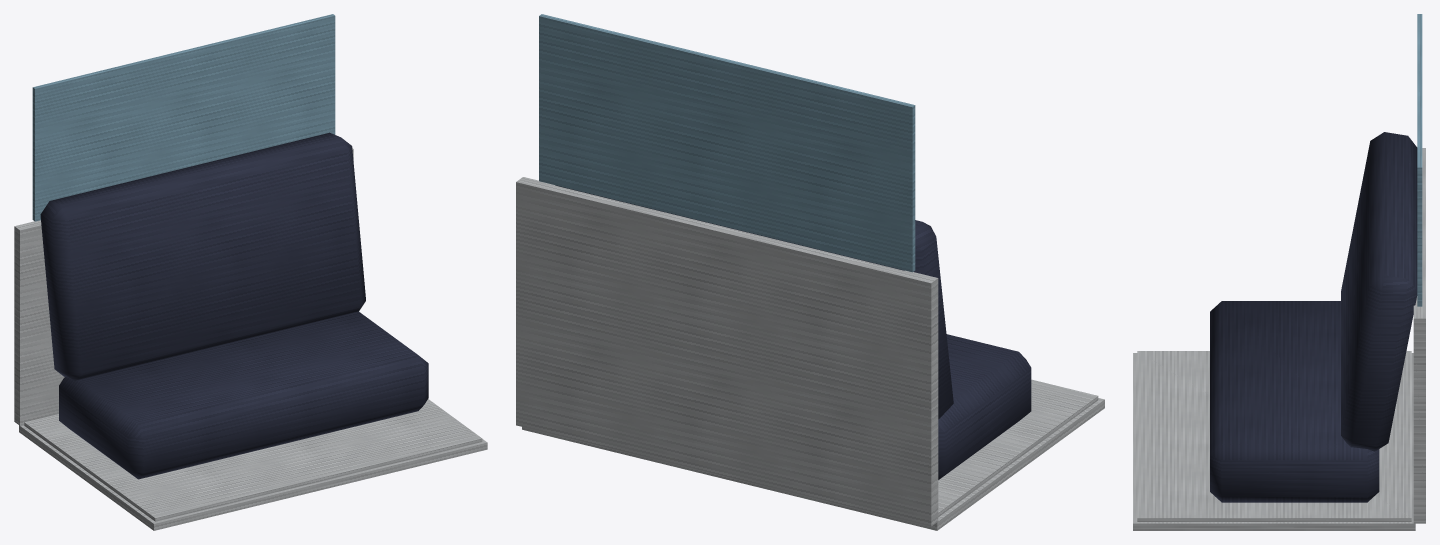
File: reducao_peso_n1.glb
3 renders of one model, left to right at view 1: azimuth 30°, elevation 25°; view 2: azimuth 150°, elevation 25°; view 3: azimuth 270°, elevation 25°, orthographic. The views are drawn at different scales.
Visible parts, largest first — view 1: reducao_peso_n1; view 2: reducao_peso_n1; view 3: reducao_peso_n1.
Part boxes in pixels (bbox=[...]): reducao_peso_n1: bbox=[14, 14, 487, 530]; reducao_peso_n1: bbox=[516, 14, 1104, 530]; reducao_peso_n1: bbox=[1133, 14, 1425, 530].
Bounding box in the file's own units: 1 × 0.97 × 0.725.
Materials: 2 (2 with a texture image).
